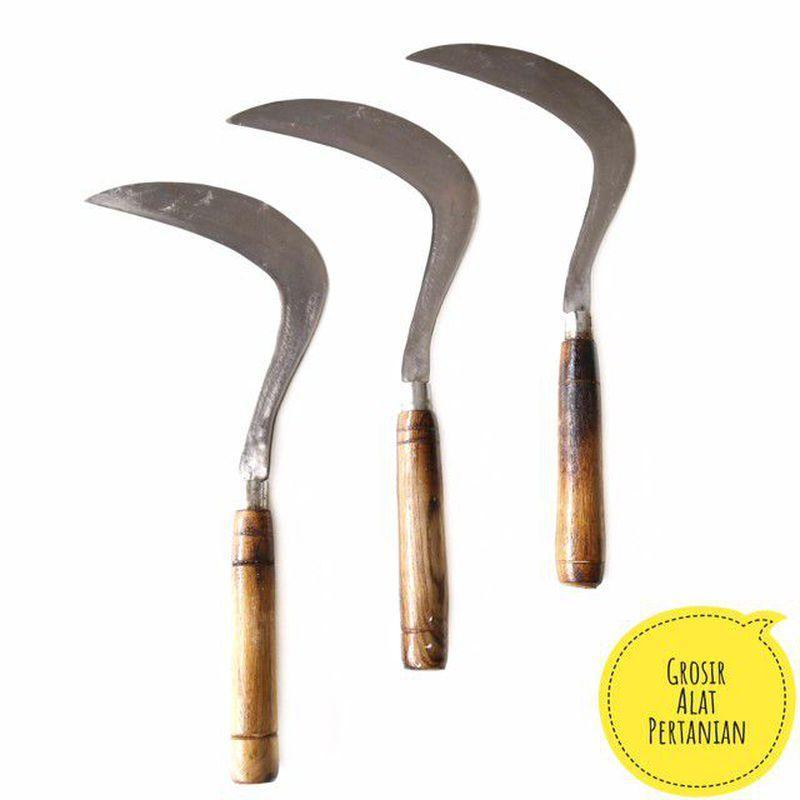foice: (224, 92, 486, 676), (84, 180, 332, 785), (406, 0, 649, 585)
